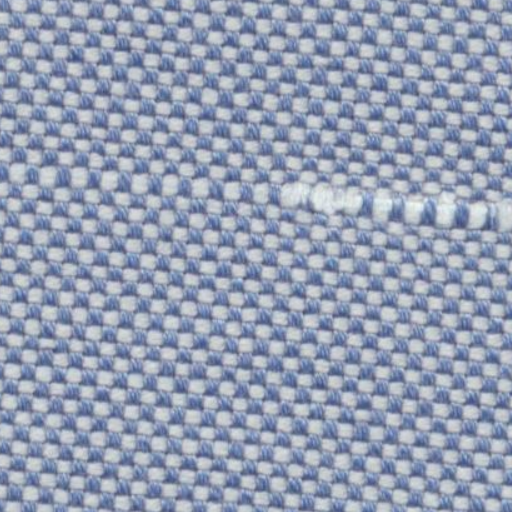DaiSha: (229, 165, 509, 247)
